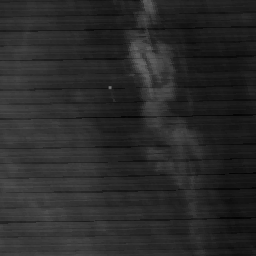Target: (107, 84, 113, 90)
